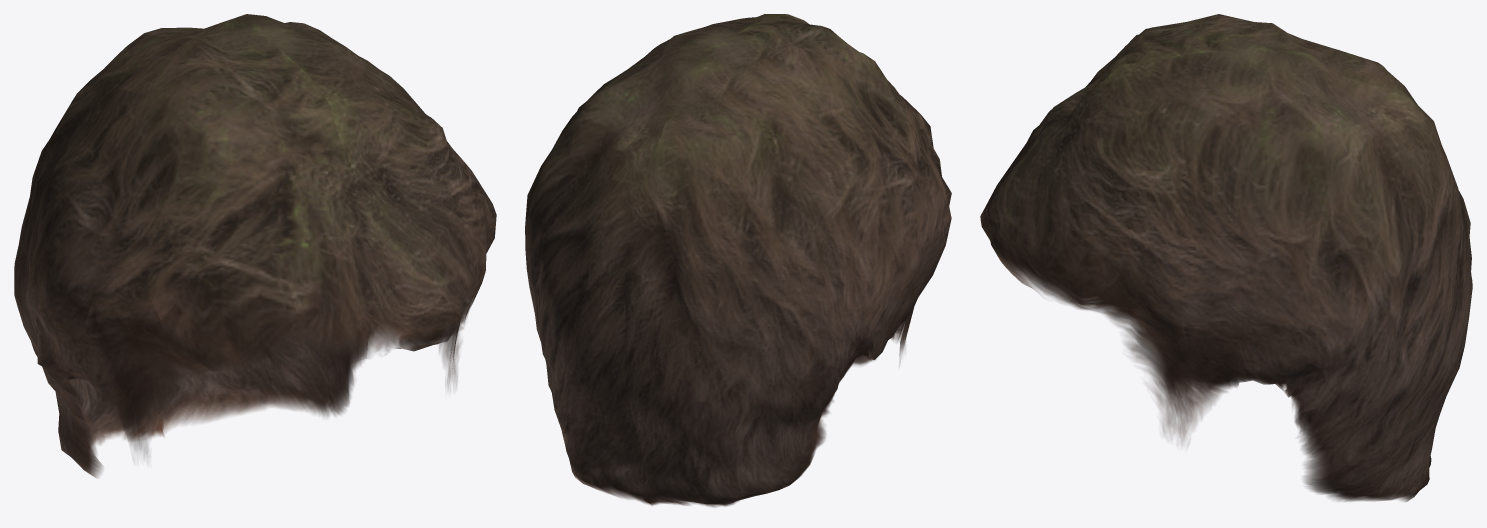
The model's file is short02-mobile.glb.
3 renders of one model, left to right at view 1: azimuth 30°, elevation 25°; view 2: azimuth 150°, elevation 25°; view 3: azimuth 270°, elevation 25°, orthographic. The views are drawn at different scales.
Parts seen in each view (by area): view 1: short02; view 2: short02; view 3: short02.
Part boxes in pixels (x1,y1,x2,y2): short02: (14, 14, 496, 478); short02: (525, 14, 951, 507); short02: (980, 14, 1472, 501).
Bounding box in the file's own units: 0.1856 × 0.204 × 0.2112.
1 material, 1 textured.
